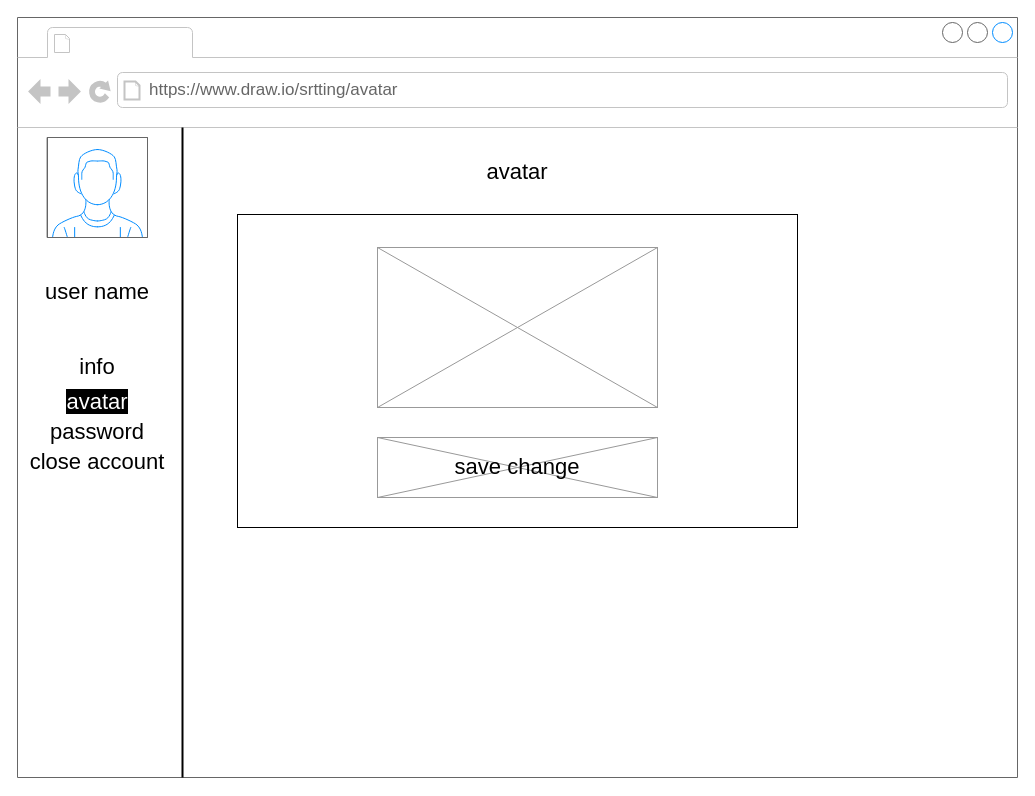
This 1035x796 diagram has some shape labels left out. Here are the shapes that lost their labels. From the top down, the box of each, then its label:
(76, 28, 188, 56): setting - avatar
(376, 246, 658, 408): upload image
